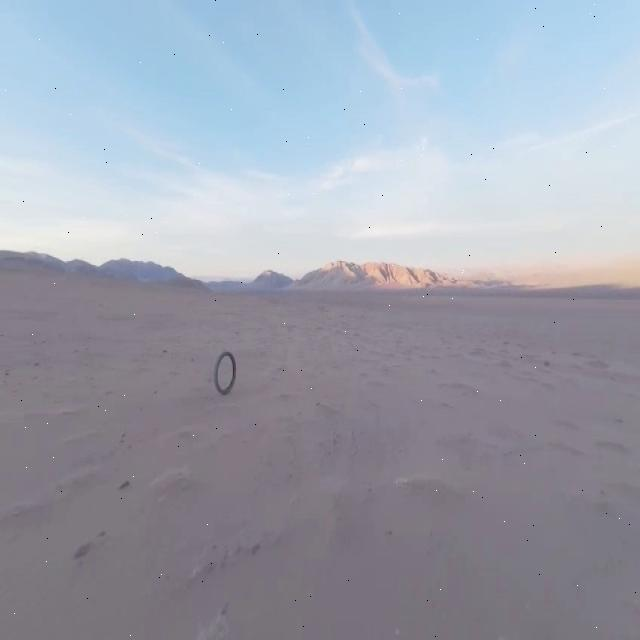Tire: (214, 351, 236, 394)
